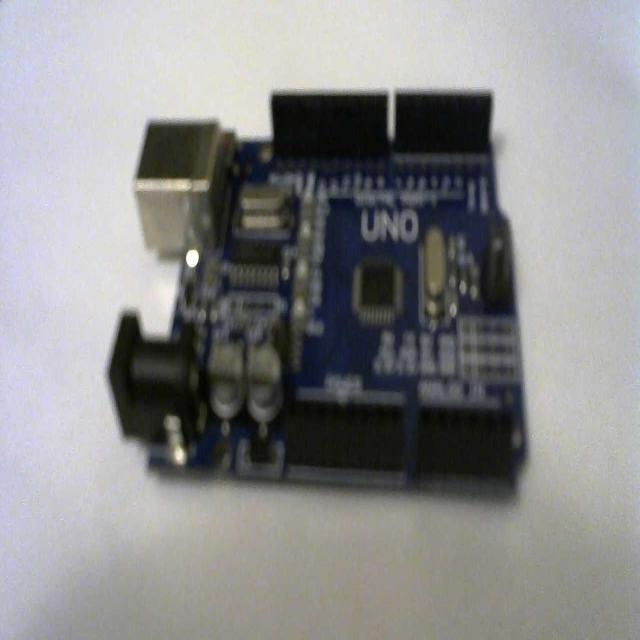arduino: (106, 64, 536, 525)
